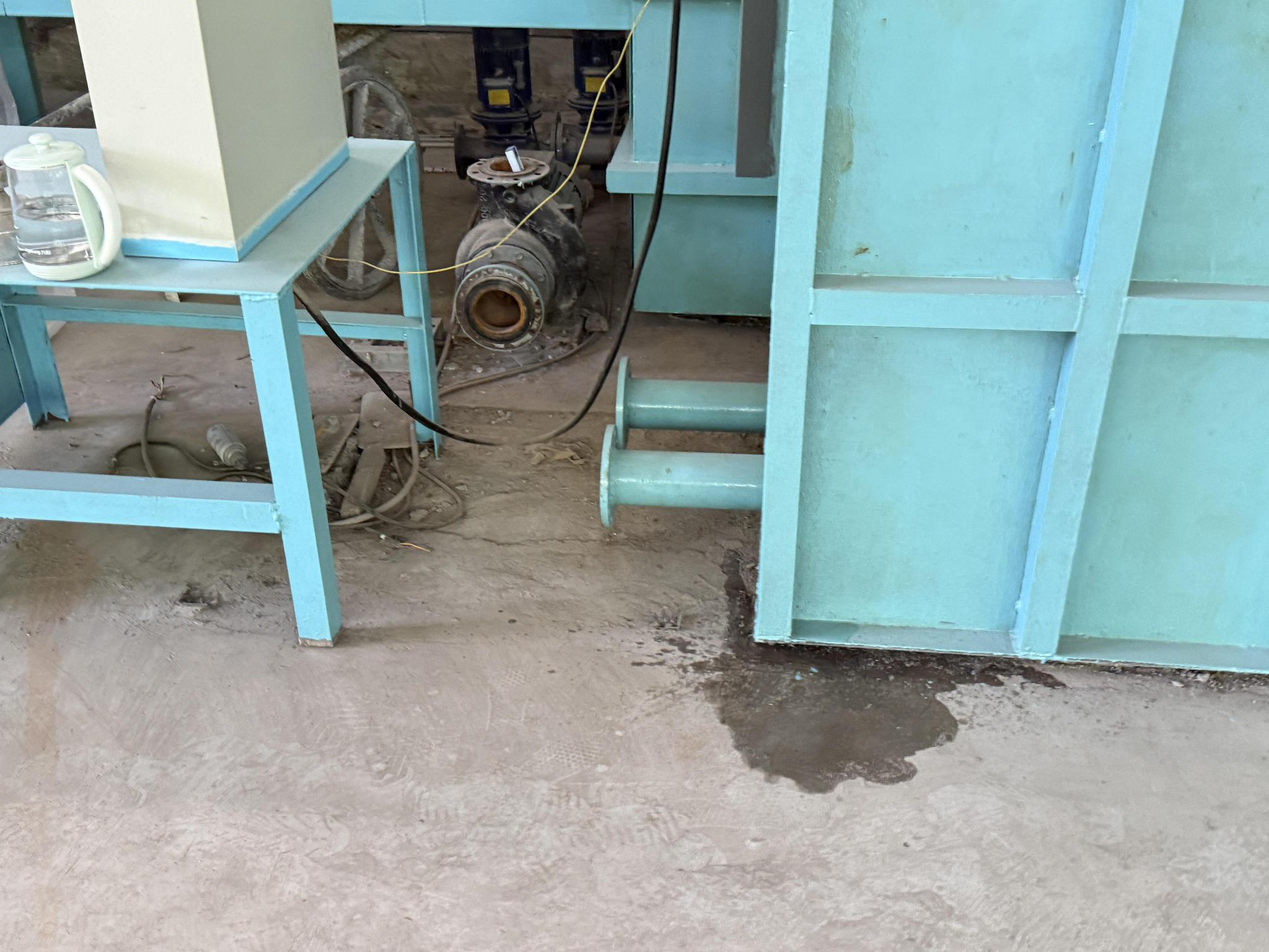water accumulation: (704, 552, 1061, 793)
